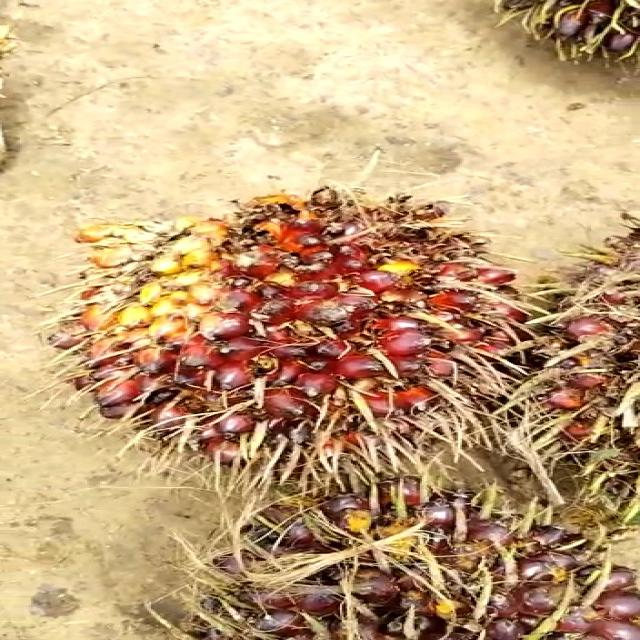palm oil: (67, 178, 570, 484)
